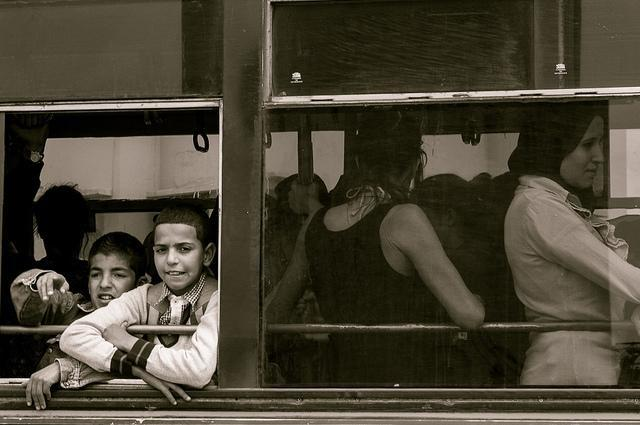bus: (0, 0, 640, 419)
